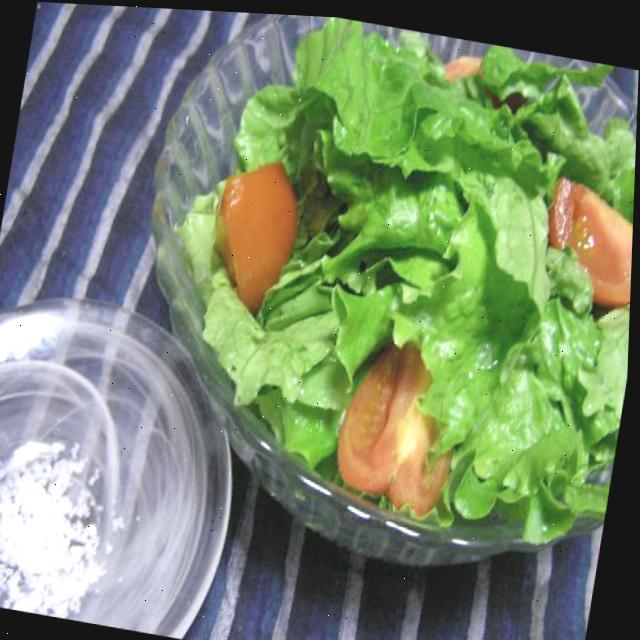蔬菜料理: (103, 5, 640, 589)
